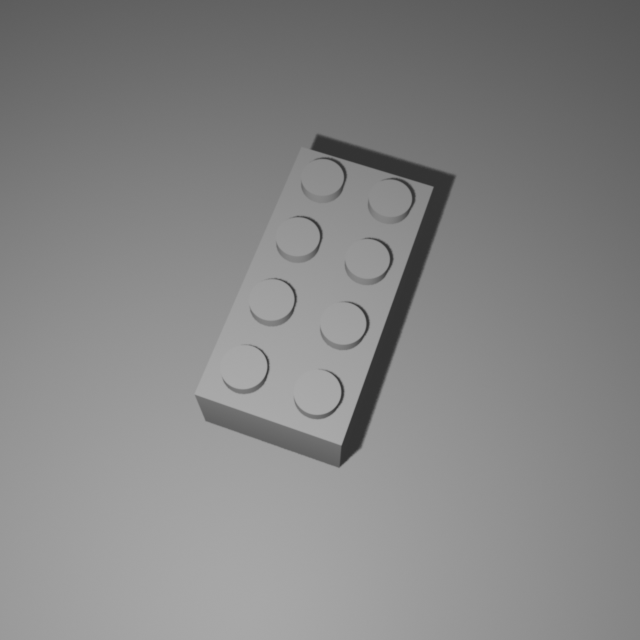lego_2x4: (192, 139, 435, 468)
